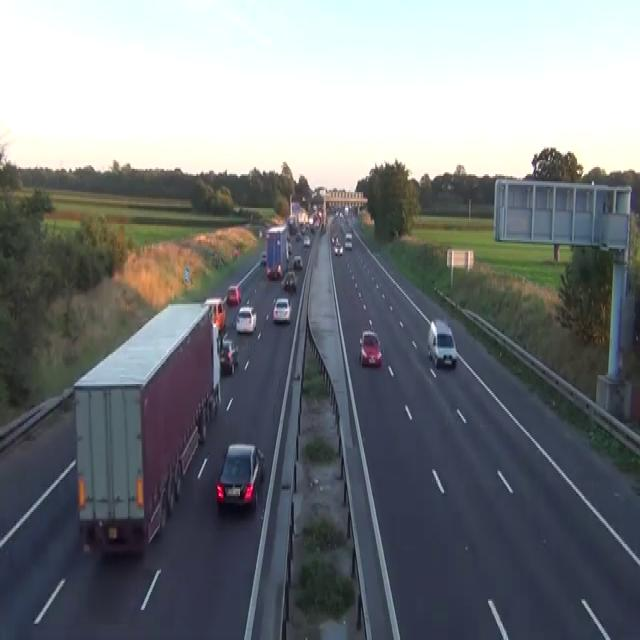Car: (215, 443, 264, 510), (427, 318, 457, 368), (359, 329, 382, 366), (204, 297, 226, 331), (219, 338, 238, 375), (235, 306, 256, 332), (272, 297, 292, 322), (226, 284, 241, 304), (281, 270, 296, 290), (266, 263, 282, 279), (344, 231, 352, 249), (334, 240, 343, 256), (293, 254, 302, 268), (230, 247, 239, 260), (260, 251, 266, 265), (302, 235, 310, 245), (266, 265, 272, 277), (287, 240, 292, 254), (446, 182, 454, 190), (331, 234, 338, 243), (233, 204, 240, 213), (234, 247, 239, 258), (295, 231, 301, 240), (441, 183, 446, 190), (258, 230, 262, 237)
Truck: (73, 301, 221, 558), (265, 224, 289, 279)
